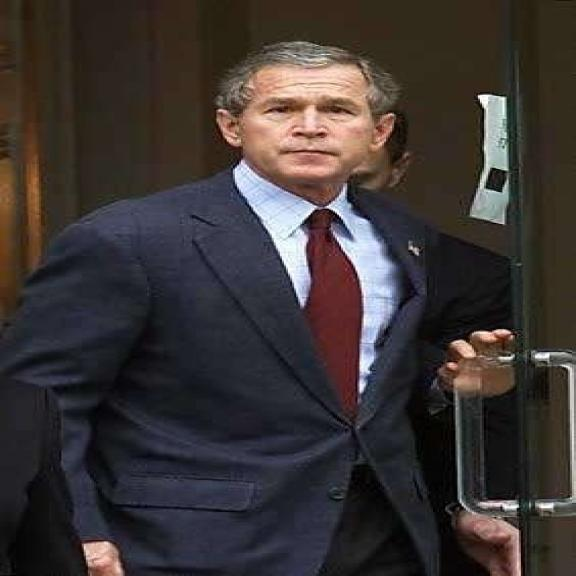face: (208, 43, 398, 188)
